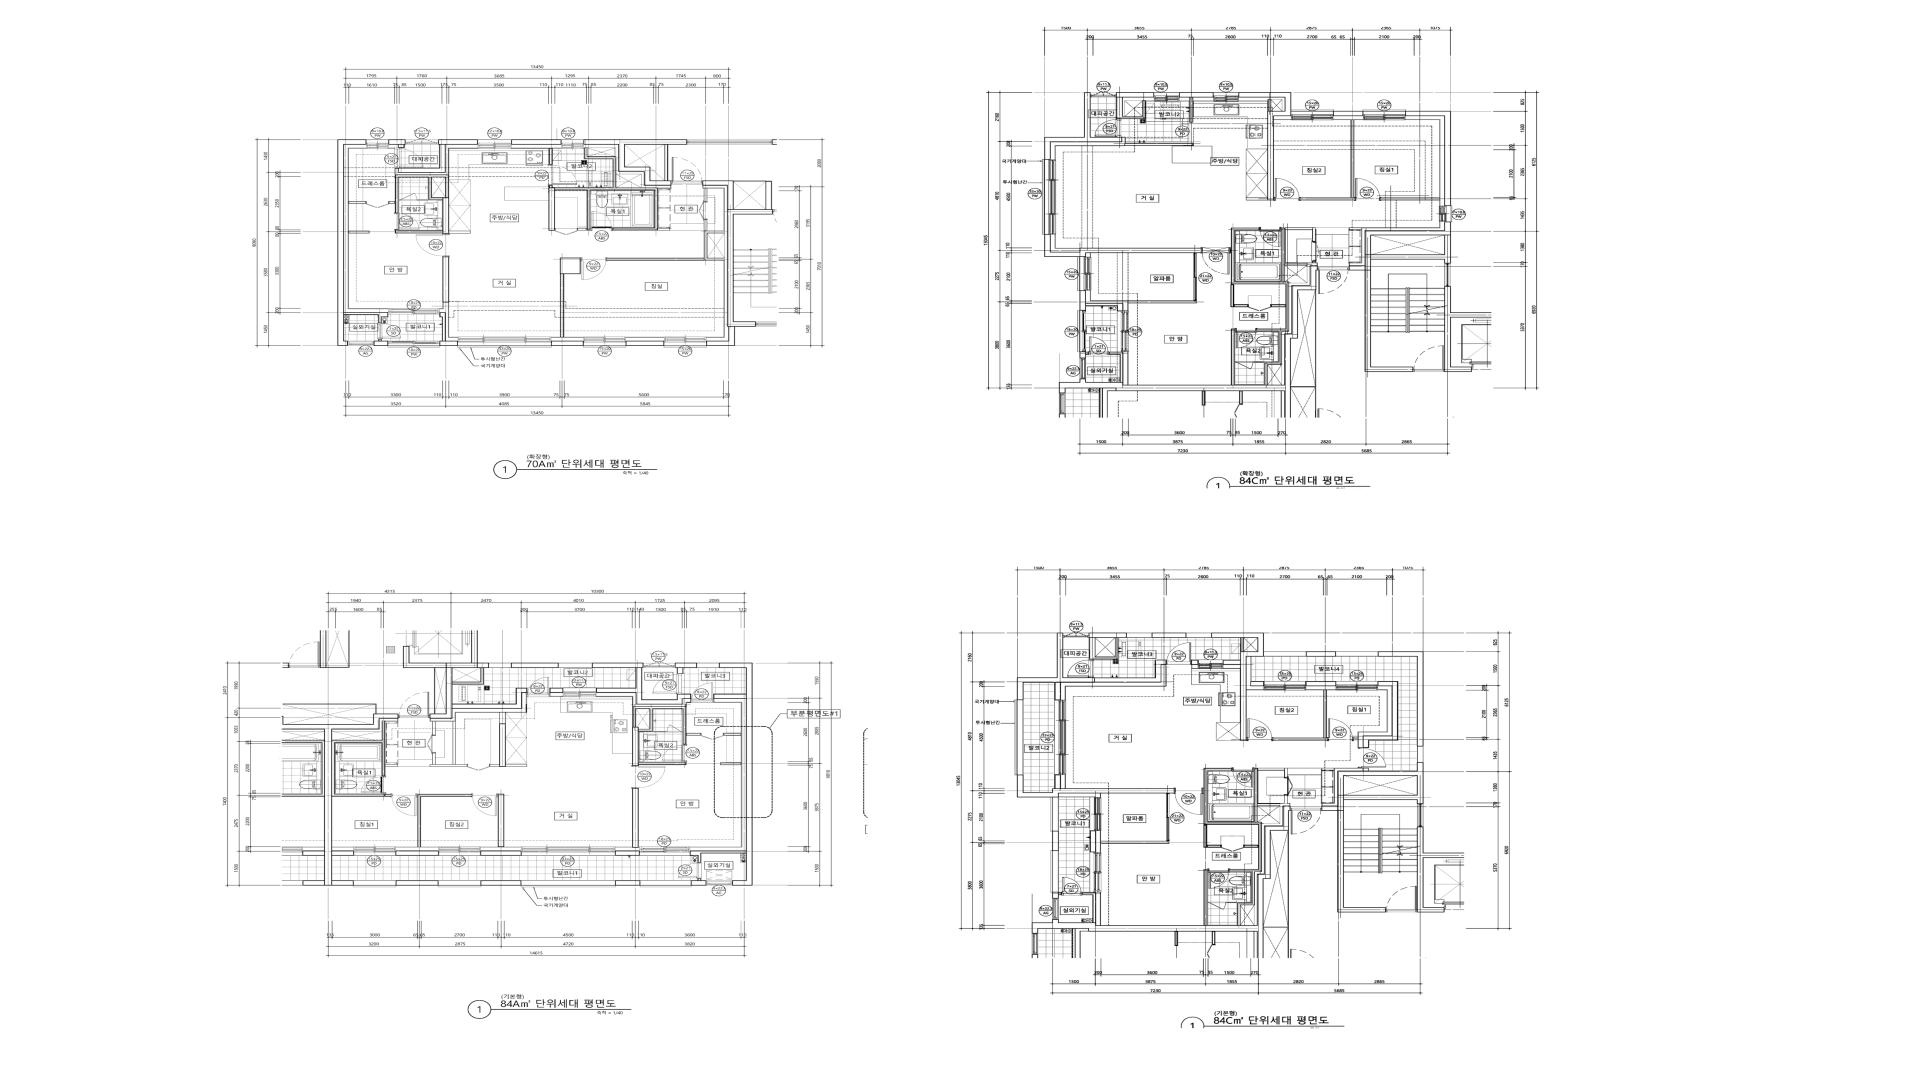door: (1317, 266, 1349, 294), (1291, 807, 1321, 835), (671, 157, 703, 183), (1201, 248, 1232, 274), (1414, 345, 1444, 372), (1174, 789, 1204, 815), (398, 692, 430, 717), (415, 233, 448, 257), (632, 766, 665, 789), (390, 794, 418, 816), (549, 165, 578, 186), (653, 674, 683, 694), (472, 794, 498, 816), (1354, 178, 1381, 200), (1274, 178, 1300, 200), (1246, 719, 1273, 741), (1328, 719, 1354, 741), (394, 148, 423, 167), (1166, 642, 1191, 665), (580, 258, 607, 280), (1358, 748, 1386, 767), (1067, 659, 1095, 678), (1095, 119, 1121, 137), (526, 676, 550, 696), (691, 683, 713, 703), (1234, 328, 1257, 348), (591, 211, 613, 231), (1207, 869, 1229, 889), (1233, 767, 1254, 787), (1259, 228, 1282, 247), (361, 777, 385, 794), (662, 745, 686, 762), (1088, 336, 1109, 355), (1062, 877, 1083, 895), (679, 862, 702, 878), (378, 323, 401, 339), (1208, 902, 1237, 910), (1193, 253, 1197, 301), (1166, 794, 1170, 841), (1312, 241, 1320, 262), (1091, 91, 1116, 98), (365, 202, 389, 208), (700, 733, 724, 740), (1284, 777, 1292, 796), (1249, 305, 1271, 311), (555, 228, 578, 235), (1221, 845, 1244, 852), (427, 735, 435, 753), (1234, 361, 1253, 369), (699, 202, 707, 220), (400, 193, 417, 200), (467, 765, 489, 770), (667, 725, 683, 732)
wall: (1059, 265, 1317, 418), (1031, 806, 1290, 959), (607, 186, 728, 342), (1321, 762, 1424, 913), (1349, 222, 1451, 372), (690, 663, 753, 886), (1204, 767, 1290, 926), (1232, 228, 1317, 385), (324, 713, 398, 886), (703, 181, 773, 345), (338, 140, 388, 345), (1017, 633, 1166, 700), (555, 145, 671, 231), (402, 646, 526, 719), (690, 699, 746, 851), (430, 692, 526, 766), (1238, 92, 1291, 200), (1212, 633, 1265, 741), (1044, 92, 1125, 160), (584, 140, 687, 186), (1378, 651, 1424, 746), (1300, 120, 1354, 200), (1406, 111, 1451, 206), (1444, 286, 1491, 372), (592, 663, 691, 704), (1418, 827, 1464, 913), (1044, 235, 1201, 257), (1017, 775, 1174, 798), (632, 707, 686, 766), (394, 140, 477, 175), (418, 794, 472, 847), (1273, 690, 1328, 741), (1358, 682, 1398, 748), (1291, 290, 1316, 388), (1263, 831, 1288, 927), (389, 175, 448, 214), (551, 274, 583, 342), (1321, 767, 1364, 806), (1344, 775, 1418, 795), (1371, 235, 1444, 255), (596, 694, 691, 707), (1116, 92, 1154, 119), (512, 145, 562, 165), (1080, 291, 1129, 311), (332, 719, 398, 732), (439, 302, 458, 342), (1089, 638, 1118, 659), (439, 313, 458, 345), (1122, 98, 1154, 116), (707, 233, 725, 258), (1109, 352, 1124, 382), (1257, 806, 1280, 824), (632, 789, 638, 848), (1232, 285, 1249, 307), (452, 669, 480, 682), (497, 794, 504, 847), (560, 257, 580, 274), (1179, 92, 1213, 102), (549, 186, 555, 231), (636, 709, 650, 729), (1333, 111, 1364, 120), (587, 148, 616, 157), (512, 140, 562, 145), (510, 663, 558, 669), (1089, 831, 1101, 852), (1305, 682, 1336, 690), (443, 257, 448, 302), (675, 663, 698, 674), (396, 851, 439, 856), (1204, 869, 1208, 926), (500, 724, 505, 766), (396, 881, 438, 886), (480, 851, 521, 856), (1269, 98, 1284, 111), (481, 881, 521, 886), (1089, 633, 1126, 638), (394, 229, 443, 233), (443, 198, 448, 233), (1153, 633, 1187, 638), (1101, 841, 1170, 844), (1129, 301, 1196, 303), (396, 847, 439, 851), (480, 847, 521, 851), (1305, 651, 1336, 657), (1381, 198, 1440, 200), (1232, 328, 1234, 385), (626, 338, 663, 342), (626, 342, 663, 345), (615, 851, 640, 856), (1052, 831, 1059, 851), (551, 342, 583, 345), (389, 140, 405, 148), (616, 881, 640, 886), (691, 878, 707, 886), (615, 847, 640, 851), (1189, 98, 1193, 123), (373, 339, 388, 345), (665, 145, 667, 181), (1125, 144, 1193, 145), (332, 847, 353, 851), (1191, 661, 1199, 669), (434, 669, 435, 713), (448, 231, 471, 233), (348, 231, 369, 233), (1246, 198, 1267, 200), (550, 688, 563, 692), (550, 692, 563, 696), (348, 202, 365, 204), (1080, 352, 1087, 359), (733, 181, 766, 182), (686, 733, 700, 736), (389, 145, 398, 149), (1241, 638, 1244, 651), (1052, 893, 1059, 898), (505, 765, 527, 766), (385, 765, 397, 766), (1253, 361, 1265, 363), (1349, 228, 1361, 229), (489, 765, 500, 766), (417, 199, 427, 200), (1353, 738, 1358, 740), (1059, 893, 1062, 895), (1087, 352, 1088, 355), (653, 732, 667, 732)
window: (1042, 160, 1056, 235), (458, 338, 551, 348), (521, 847, 615, 856), (1055, 700, 1065, 775), (521, 881, 616, 887), (1015, 700, 1023, 775), (1089, 852, 1101, 893), (640, 847, 690, 856), (583, 338, 626, 348), (663, 338, 707, 348), (1291, 109, 1335, 120), (1077, 257, 1091, 291), (1364, 109, 1406, 120), (1089, 798, 1101, 831), (1077, 310, 1087, 352), (1050, 851, 1059, 893), (353, 847, 396, 856), (439, 847, 480, 856), (388, 342, 440, 348), (640, 881, 691, 887), (1263, 682, 1305, 690), (1336, 682, 1378, 690), (1121, 311, 1129, 352), (477, 140, 512, 149), (1050, 798, 1059, 831), (438, 881, 481, 887), (353, 881, 396, 887), (388, 309, 439, 314), (563, 688, 596, 696), (1154, 92, 1179, 102), (1213, 92, 1238, 102), (1199, 659, 1224, 669), (1336, 651, 1378, 657), (1263, 651, 1305, 657), (405, 138, 438, 145), (562, 140, 584, 149), (367, 140, 389, 149), (1440, 206, 1452, 222), (558, 663, 592, 669), (1063, 632, 1089, 638), (644, 662, 675, 667), (1444, 262, 1451, 286), (1418, 804, 1424, 827), (1052, 898, 1059, 919), (1126, 633, 1153, 638), (1187, 633, 1212, 638), (1080, 359, 1087, 378), (1418, 746, 1424, 762), (348, 342, 373, 345), (707, 881, 732, 885), (489, 663, 510, 667), (698, 663, 719, 667)
